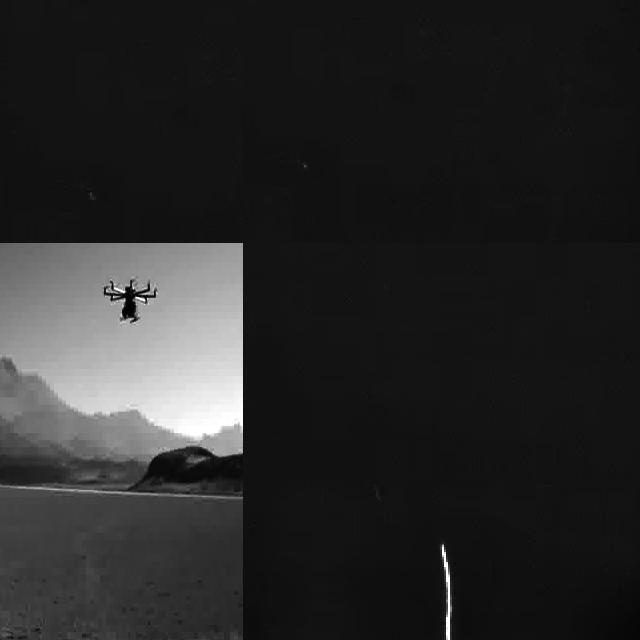0: (83, 184, 107, 216), (296, 156, 320, 184), (369, 482, 391, 512)
drone: (102, 268, 159, 328)
